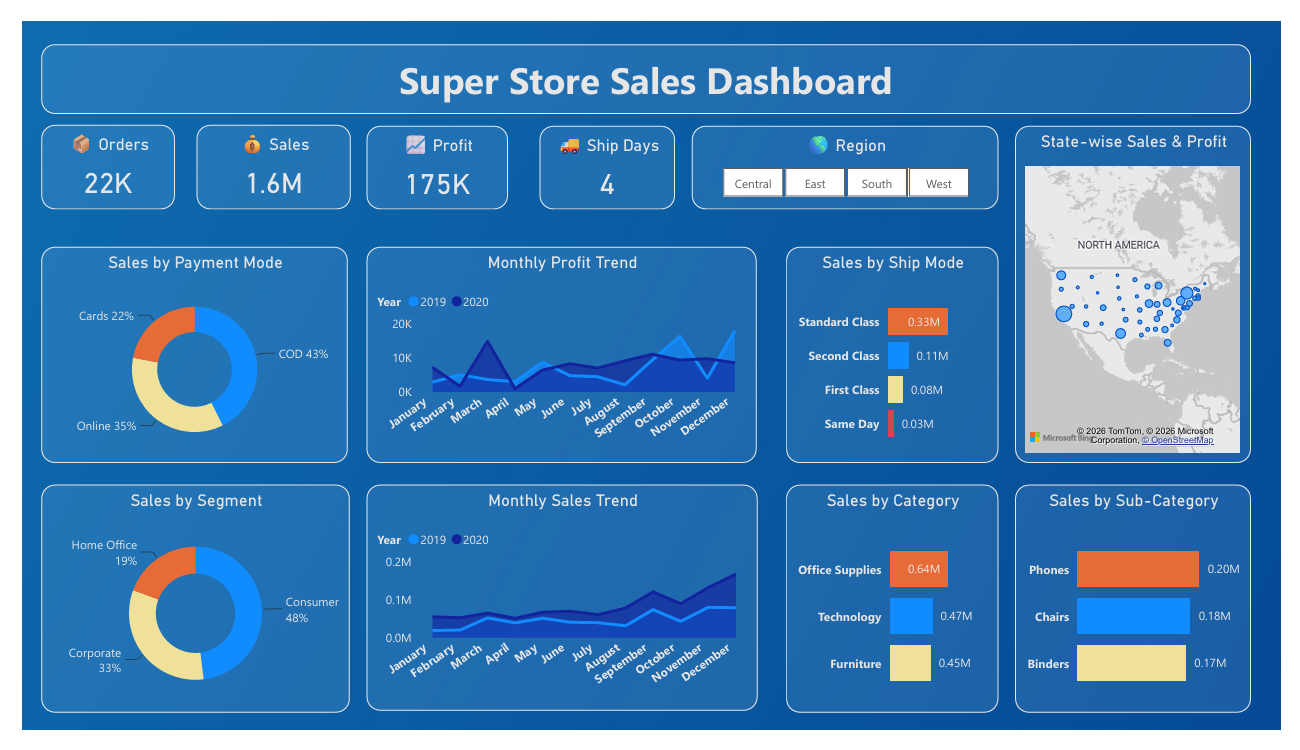

The dashboard page shown, as its layout file describes it:
{"tool":"powerbi","page":{"name":"Page 1","canvas":[1280,720],"ordinal":0},"visuals":[{"type":"clusteredBarChart","title":"Sales by Category","fields":{"Category":["SuperStore_Sales_Dataset.Category"],"Y":["Sum(SuperStore_Sales_Dataset.Sales)"]},"box":[777.1,471.4,215.7,231.4],"z":0},{"type":"clusteredBarChart","title":"Sales by Sub-Category","fields":{"Category":["SuperStore_Sales_Dataset.Sub-Category"],"Y":["Sum(SuperStore_Sales_Dataset.Sales)"]},"box":[1010,471.4,240,231.4],"z":1000},{"type":"clusteredBarChart","title":"Sales by Ship Mode","fields":{"Category":["SuperStore_Sales_Dataset.Ship Mode"],"Y":["Sum(SuperStore_Sales_Dataset.Sales)"]},"box":[777.1,228.6,215.7,220],"z":2000},{"type":"areaChart","title":"Monthly Sales Trend","fields":{"Category":["SuperStore_Sales_Dataset.Order Date.Variation.Date Hierarchy.Month","SuperStore_Sales_Dataset.Order Date.Variation.Date Hierarchy.Day"],"Series":["SuperStore_Sales_Dataset.Order Date.Variation.Date Hierarchy.Year"],"Y":["Sum(SuperStore_Sales_Dataset.Sales)"]},"box":[349.9,470.8,397.7,230.6],"z":3000},{"type":"areaChart","title":"Monthly Profit Trend","fields":{"Category":["SuperStore_Sales_Dataset.Order Date.Variation.Date Hierarchy.Month","SuperStore_Sales_Dataset.Order Date.Variation.Date Hierarchy.Day"],"Series":["SuperStore_Sales_Dataset.Order Date.Variation.Date Hierarchy.Year"],"Y":["Sum(SuperStore_Sales_Dataset.Profit)"]},"box":[350,228.6,397.1,220],"z":4000},{"type":"map","title":"State-wise Sales & Profit","fields":{"Category":["SuperStore_Sales_Dataset.State"],"Size":["Sum(SuperStore_Sales_Dataset.Sales)"]},"box":[1010,105.7,240,342.9],"z":5000},{"type":"donutChart","title":"Sales by Segment","fields":{"Category":["SuperStore_Sales_Dataset.Segment"],"Y":["Sum(SuperStore_Sales_Dataset.Sales)"]},"box":[18.6,471.4,314.3,231.4],"z":6000},{"type":"donutChart","title":"Sales by Payment Mode","fields":{"Category":["SuperStore_Sales_Dataset.Payment Mode"],"Y":["Sum(SuperStore_Sales_Dataset.Sales)"]},"box":[18.6,228.6,312.9,220],"z":7000},{"type":"slicer","title":"🌎 Region","fields":{"Values":["SuperStore_Sales_Dataset.Region"]},"box":[681.4,105.7,311.4,85.7],"z":8000},{"type":"textbox","box":[18.6,22.9,1231.4,71.4],"z":9000},{"type":"card","title":"💰 Sales","fields":{"Values":["Sum(SuperStore_Sales_Dataset.Sales)"]},"box":[176.6,105,157.1,85.7],"z":10000},{"type":"card","title":"📦 Orders","fields":{"Values":["Sum(SuperStore_Sales_Dataset.Quantity)"]},"box":[19.1,105,135.7,85.7],"z":11000},{"type":"card","title":"📈 Profit","fields":{"Values":["Sum(SuperStore_Sales_Dataset.Profit)"]},"box":[350,105.7,144.3,85.7],"z":12000},{"type":"card","title":"🚚 Ship Days","fields":{"Values":["Avg(SuperStore_Sales_Dataset.AvgDelivery)"]},"box":[525.7,105.7,138.6,85.7],"z":13000}]}

Visuals, with their boxes in screenshot pixels (x1, y1, x2, y2), scaled from the page's 1280x720 canvas onto the 1300x750 screenshot:
"Sales by Category" clusteredBarChart: (789,491,1008,732)
"Sales by Sub-Category" clusteredBarChart: (1026,491,1270,732)
"Sales by Ship Mode" clusteredBarChart: (789,238,1008,467)
"Monthly Sales Trend" areaChart: (355,490,759,731)
"Monthly Profit Trend" areaChart: (355,238,759,467)
"State-wise Sales & Profit" map: (1026,110,1270,467)
"Sales by Segment" donutChart: (19,491,338,732)
"Sales by Payment Mode" donutChart: (19,238,337,467)
"🌎 Region" slicer: (692,110,1008,199)
textbox: (19,24,1270,98)
"💰 Sales" card: (179,109,339,199)
"📦 Orders" card: (19,109,157,199)
"📈 Profit" card: (355,110,502,199)
"🚚 Ship Days" card: (534,110,675,199)
